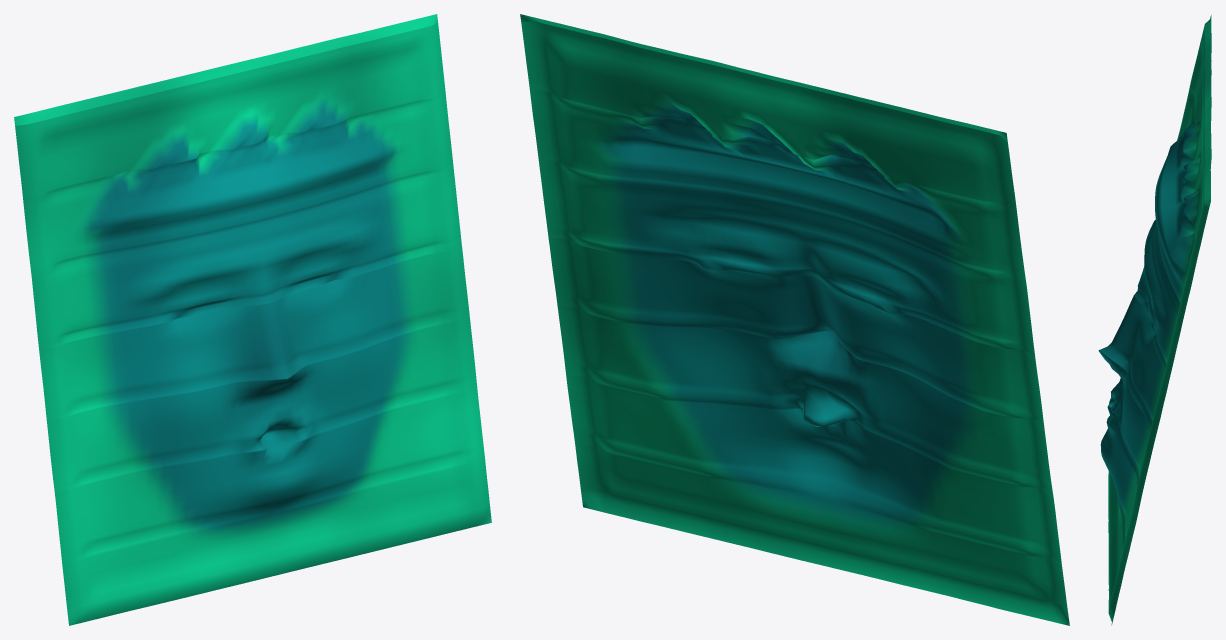
The model's file is watcher_relief.glb.
3 renders of one model, left to right at view 1: azimuth 30°, elevation 25°; view 2: azimuth 150°, elevation 25°; view 3: azimuth 270°, elevation 25°, orthographic. The views are drawn at different scales.
Parts seen in each view (by area): view 1: watcher_relief; view 2: watcher_relief; view 3: watcher_relief.
Part boxes in pixels (x1,y1,x2,y2): watcher_relief: (14, 14, 491, 625); watcher_relief: (520, 14, 1069, 625); watcher_relief: (1098, 15, 1211, 625).
Size of what is drawn, in the model's own units: 3.4 by 3.6 by 0.8704.
